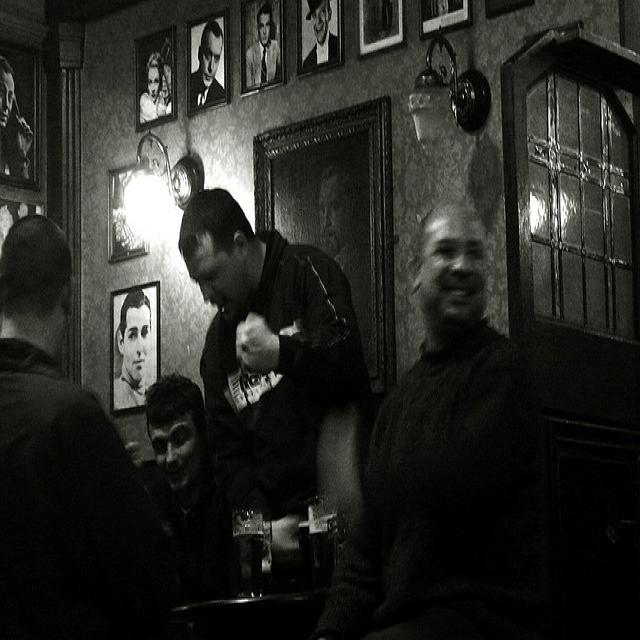Cup: (226, 499, 275, 613), (296, 486, 344, 595)
People: (390, 176, 545, 626), (0, 200, 126, 590), (183, 198, 328, 443), (128, 369, 202, 549), (111, 278, 159, 393), (196, 17, 235, 131), (299, 0, 351, 82), (248, 0, 280, 109), (0, 60, 29, 172), (143, 45, 179, 130)
Table: (170, 568, 342, 640)
